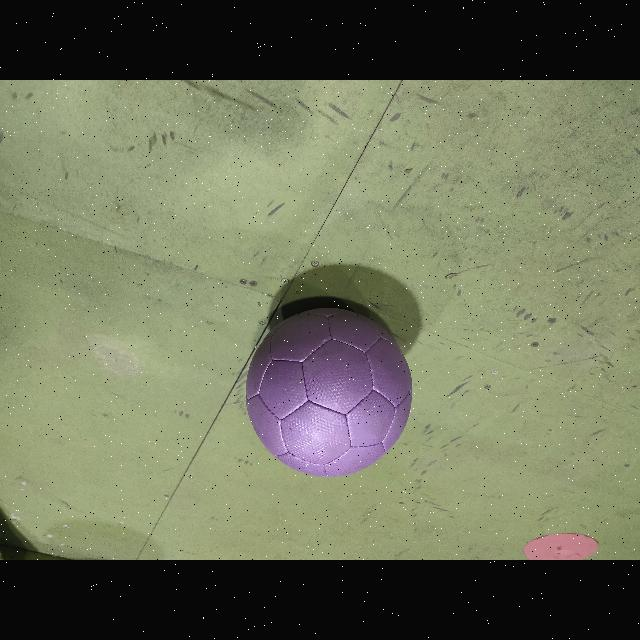P: (246, 309, 412, 477)
R: (524, 534, 598, 560)
